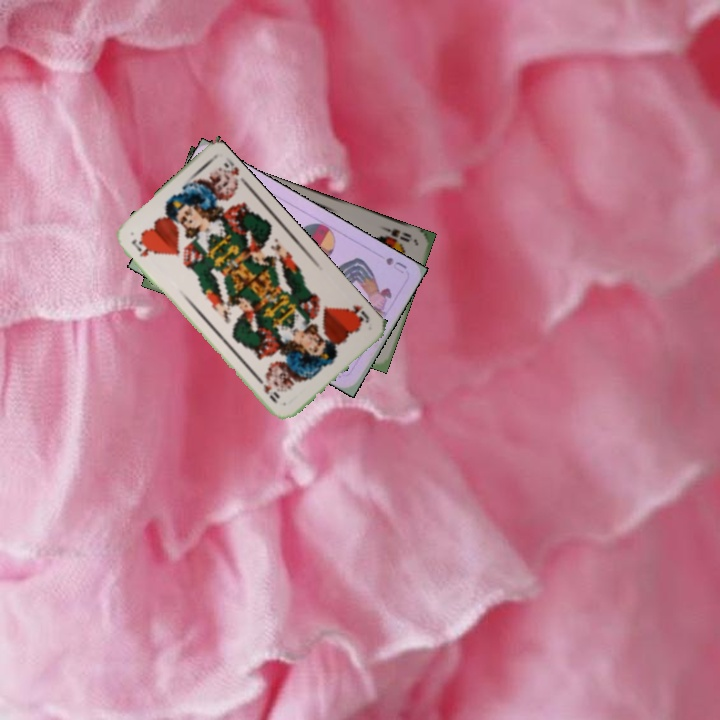HO: (343, 301, 372, 327), (127, 235, 153, 260)
SO: (378, 222, 414, 245)
SU: (381, 253, 409, 276)
